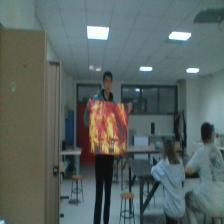fire-poster: (89, 99, 128, 152)
